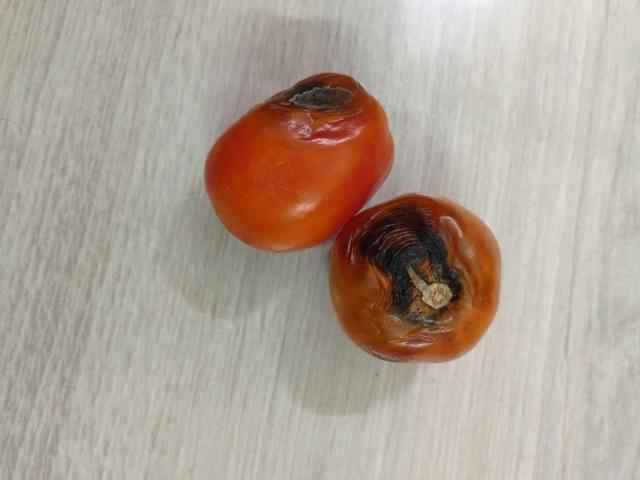defect: (204, 66, 395, 253), (329, 191, 506, 366)
